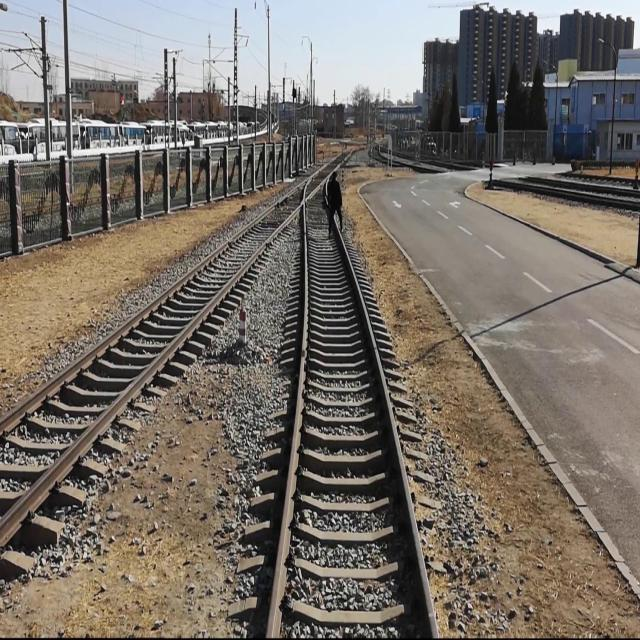danger: (323, 163, 347, 247)
rail: (0, 148, 356, 552), (0, 152, 342, 437), (334, 218, 439, 639), (266, 178, 312, 638), (326, 179, 330, 197)
